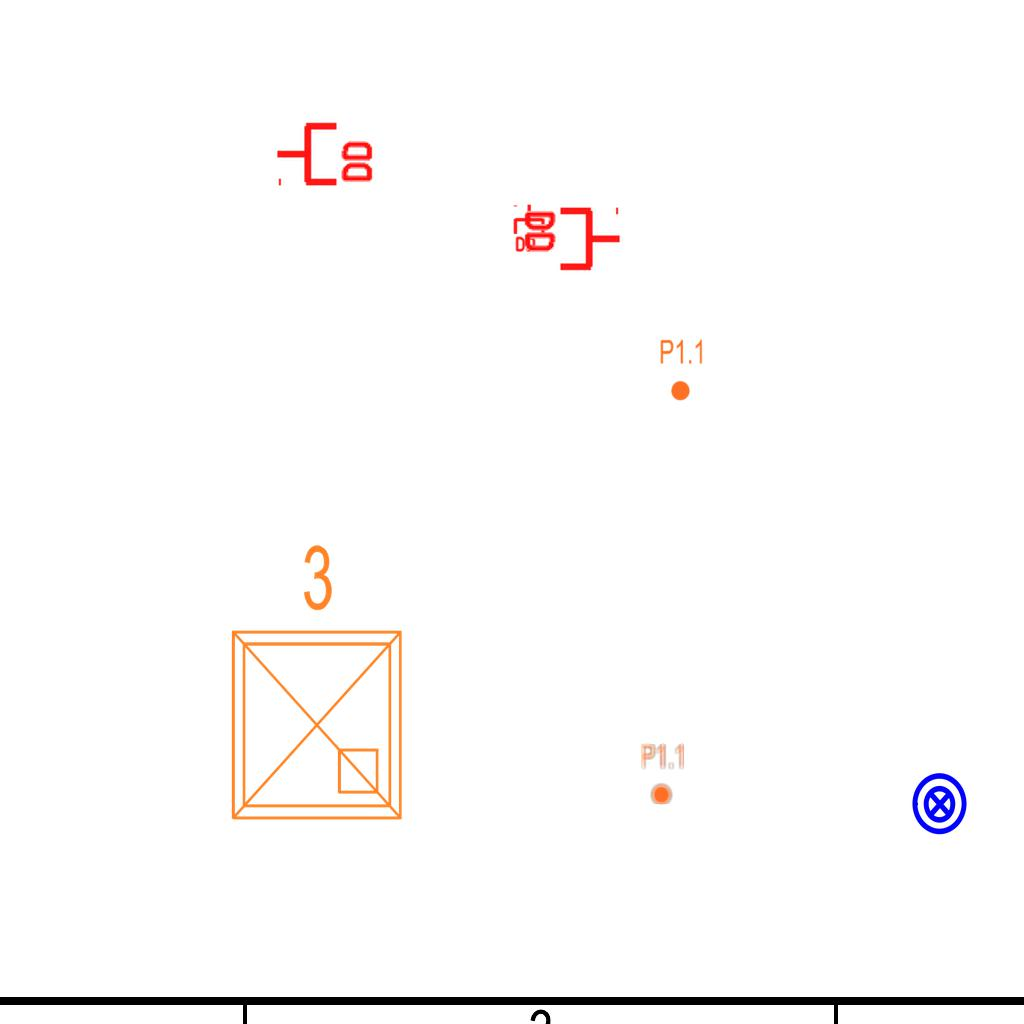Datenanschluss_zweifach: (274, 118, 377, 187), (520, 206, 623, 275), (513, 203, 547, 254)
Downlight_LED_Einbauleuchten_Flur: (640, 742, 686, 806), (659, 338, 705, 402)
Einbaudownlights_LED_Konferenzraeume: (209, 534, 417, 834)
Taster_beleuchtet: (907, 771, 973, 837)
